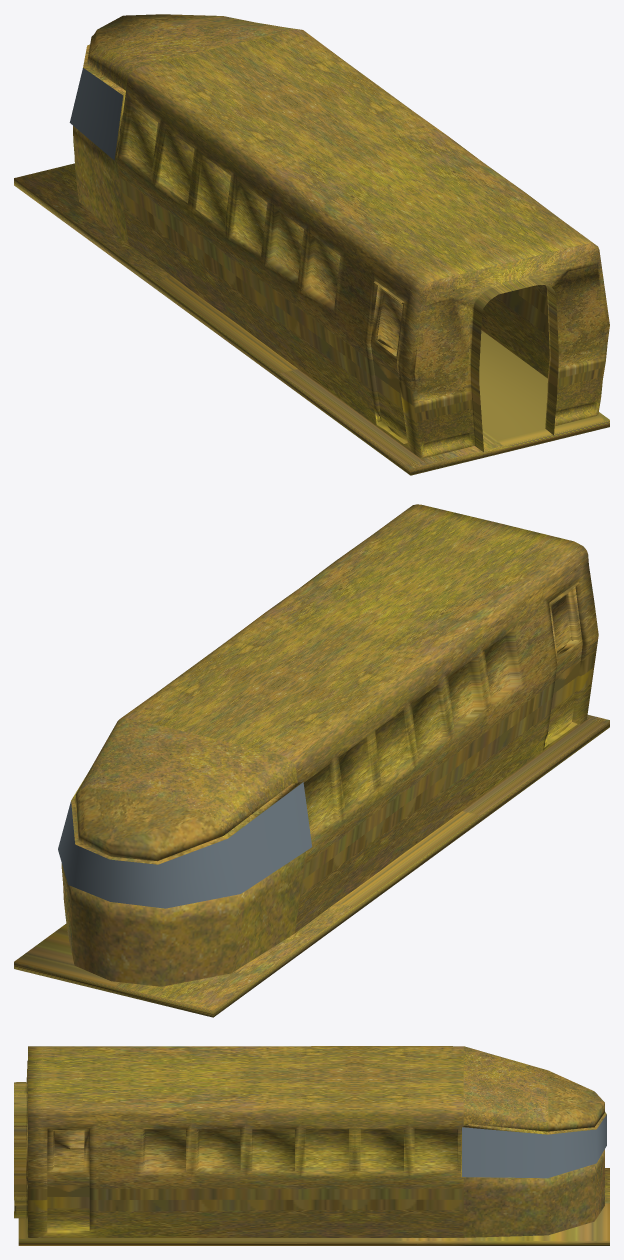
File: train front.fbx
3 renders of one model, top to bottom at view 1: azimuth 30°, elevation 25°; view 2: azimuth 150°, elevation 25°; view 3: azimuth 270°, elevation 25°, orthographic. The views are drawn at different scales.
Visible parts, largest first — view 1: Cube.029, floor, windows1; view 2: Cube.029, floor, windows1; view 3: Cube.029, windows1, floor.
Part boxes in pixels (x1,y1,x2,y2): Cube.029: [73, 14, 609, 458]; floor: [14, 163, 609, 475]; windows1: [69, 68, 122, 160]; Cube.029: [61, 504, 598, 986]; floor: [14, 715, 609, 1017]; windows1: [58, 782, 312, 908]; Cube.029: [14, 1046, 606, 1237]; windows1: [462, 1114, 606, 1178]; floor: [18, 1168, 609, 1245].
Size of the model in its own units: 438 by 365 by 1441.
